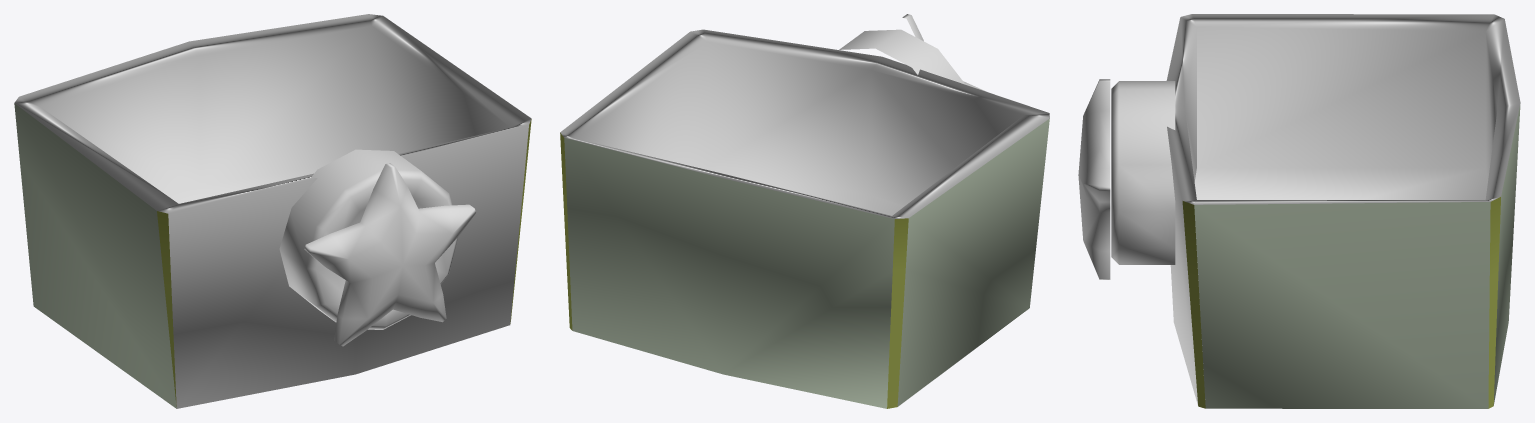
Rendered from trunkProgressionAA.glb.
3 views of the same model, side by side, from view 1: azimuth 30°, elevation 25°; view 2: azimuth 150°, elevation 25°; view 3: azimuth 270°, elevation 25° (orthographic). The views are drawn at different scales.
Visible parts, largest first — view 1: trunkProgressionAA; view 2: trunkProgressionAA; view 3: trunkProgressionAA.
Boxes of the visible parts, x1=… form: trunkProgressionAA: x1=14, y1=14, x2=531, y2=408; trunkProgressionAA: x1=560, y1=14, x2=1049, y2=408; trunkProgressionAA: x1=1078, y1=14, x2=1520, y2=408.
Bounding box in the file's own units: 0.5827 × 0.3451 × 0.5704.
